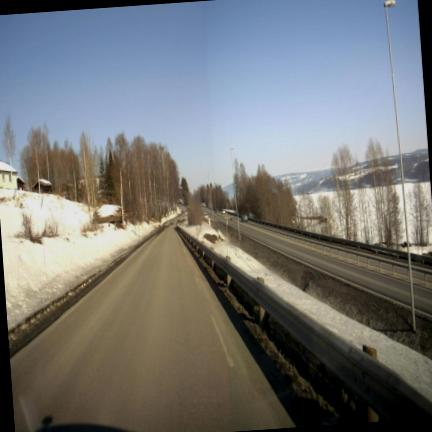Road: (10, 227, 296, 431)
